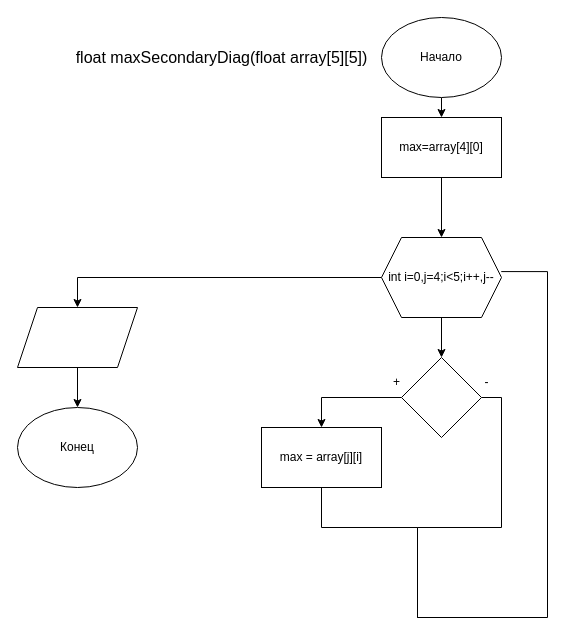
Some shapes in this 566 by 636 pixel diagram are drawn without their labels. Here are the shapes that lost their labels. From the top down, the box of each, then its label:
(16, 306, 138, 368): return max
(400, 356, 482, 438): array[j][i]>max
